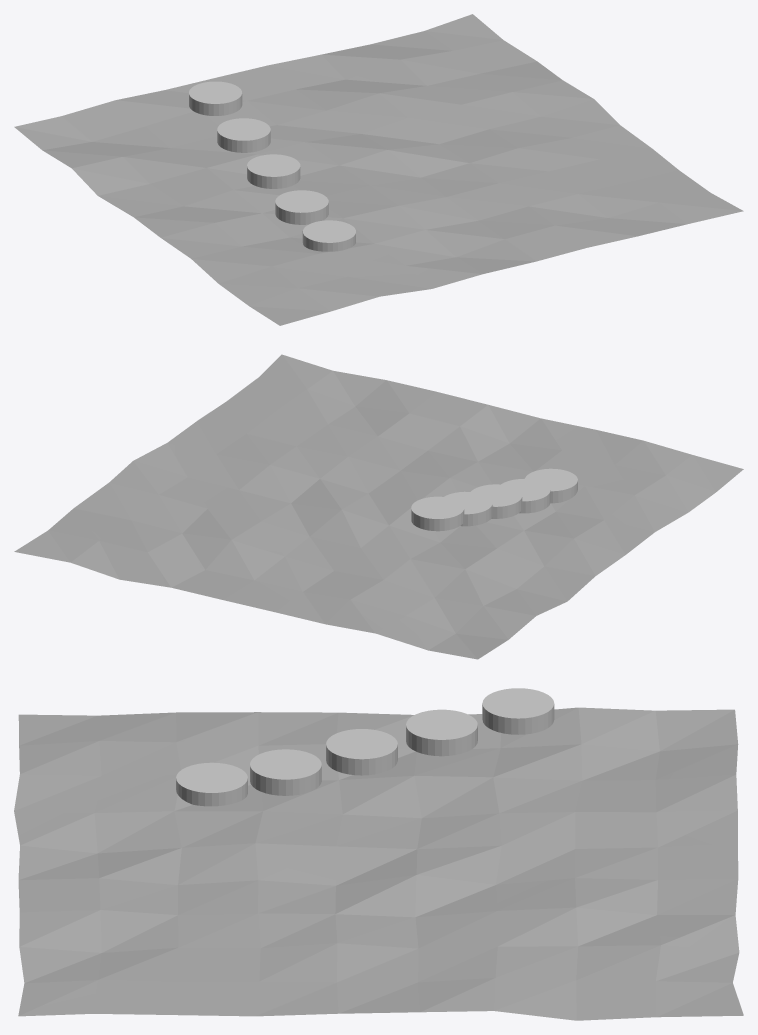
The model's file is ground_stairs.obj.
3 renders of one model, top to bottom at view 1: azimuth 30°, elevation 25°; view 2: azimuth 150°, elevation 25°; view 3: azimuth 270°, elevation 25°, orthographic. The views are drawn at different scales.
Visible parts, largest first — view 1: Grid_Grid.001, Cylinder.002, Cylinder.003, Cylinder.004, Cylinder.001, Cylinder; view 2: Grid_Grid.001, Cylinder.004, Cylinder.002, Cylinder, Cylinder.001, Cylinder.003; view 3: Grid_Grid.001, Cylinder.004, Cylinder.003, Cylinder.001, Cylinder.002, Cylinder.
Boxes of the visible parts, left/top/right/bottom form: Grid_Grid.001: left=14, top=14, right=743, bottom=325; Cylinder.002: left=247, top=154, right=300, bottom=188; Cylinder.003: left=217, top=118, right=270, bottom=152; Cylinder.004: left=189, top=81, right=242, bottom=115; Cylinder.001: left=275, top=190, right=328, bottom=224; Cylinder: left=302, top=220, right=355, bottom=251; Grid_Grid.001: left=14, top=354, right=743, bottom=659; Cylinder.004: left=411, top=496, right=464, bottom=531; Cylinder.002: left=471, top=484, right=522, bottom=518; Cylinder: left=525, top=468, right=577, bottom=503; Cylinder.001: left=501, top=479, right=550, bottom=513; Cylinder.003: left=444, top=491, right=492, bottom=526; Grid_Grid.001: left=14, top=707, right=743, bottom=1020; Cylinder.004: left=482, top=688, right=554, bottom=734; Cylinder.003: left=406, top=709, right=477, bottom=756; Cylinder.001: left=250, top=749, right=321, bottom=795; Cylinder.002: left=326, top=729, right=397, bottom=775; Cylinder: left=176, top=762, right=247, bottom=806.
Bounding box in the file's own units: 20.22 × 2.91 × 20.32.
2 materials, 1 textured.
